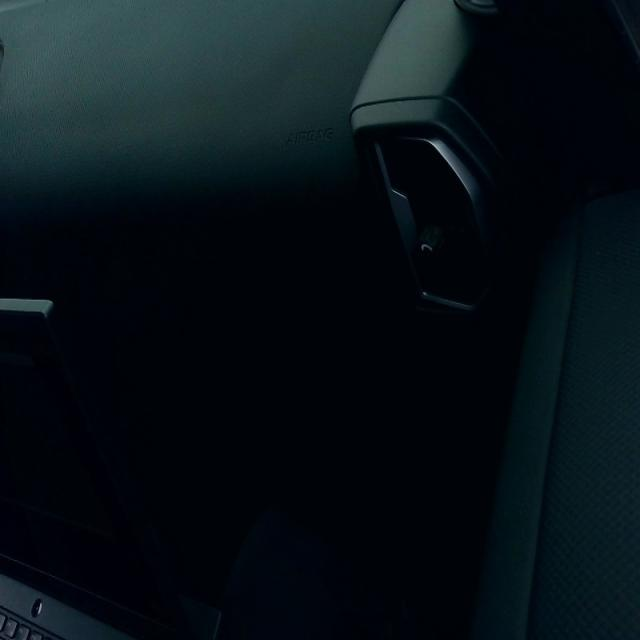DITCH: (1, 1, 638, 638), (1, 35, 639, 638)
